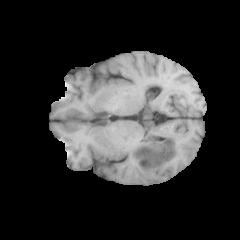glioma: (130, 136, 181, 175)
